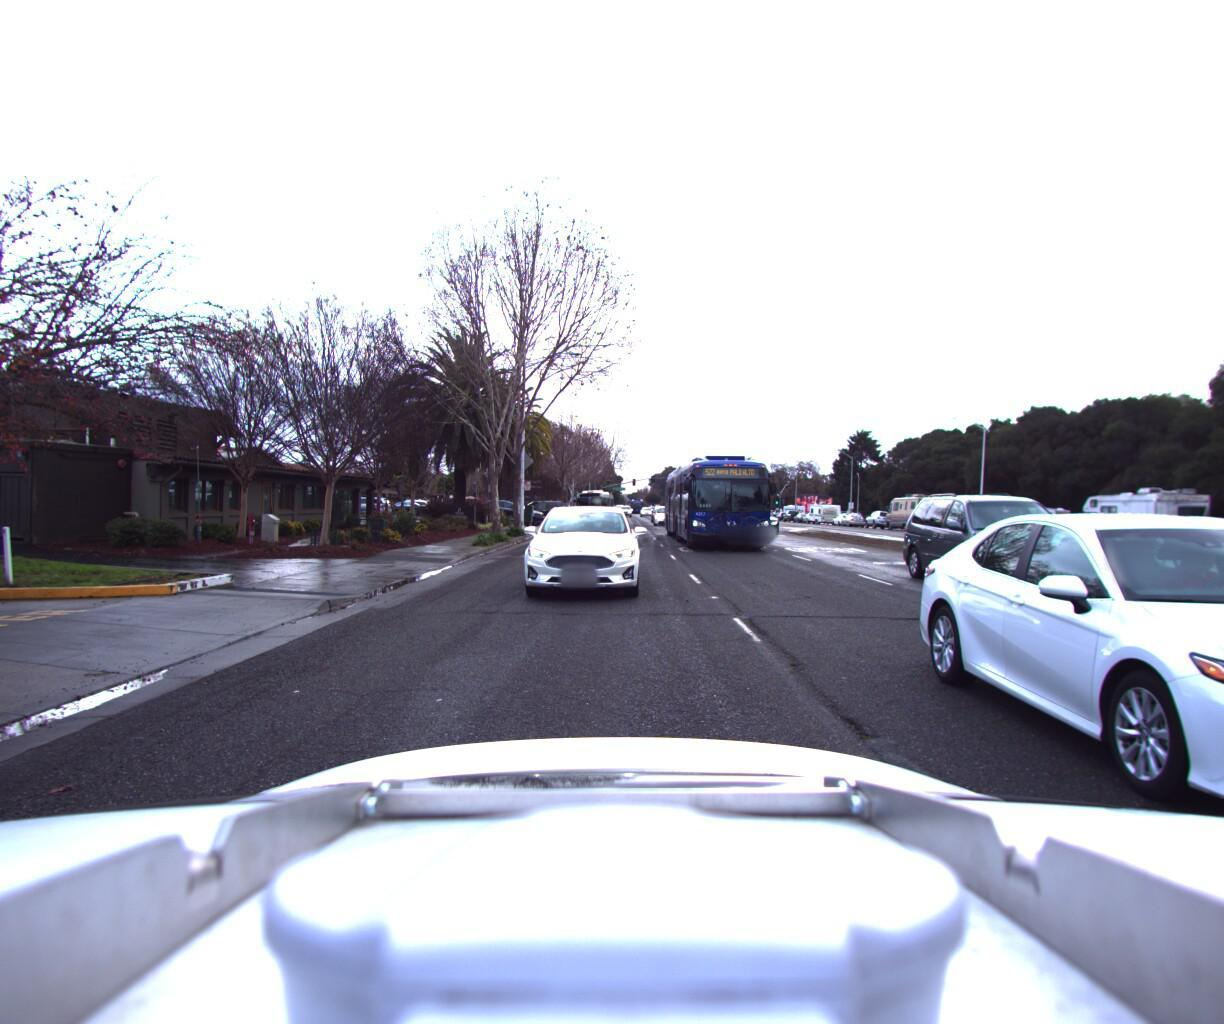bus: (655, 455, 785, 564), (571, 490, 606, 526)
car: (909, 504, 1224, 908), (897, 486, 1103, 602), (509, 487, 639, 611), (1000, 506, 1085, 548), (651, 506, 680, 531), (862, 515, 894, 534), (1212, 530, 1224, 575)
other_vehicle: (1070, 484, 1219, 561), (880, 495, 951, 538)
